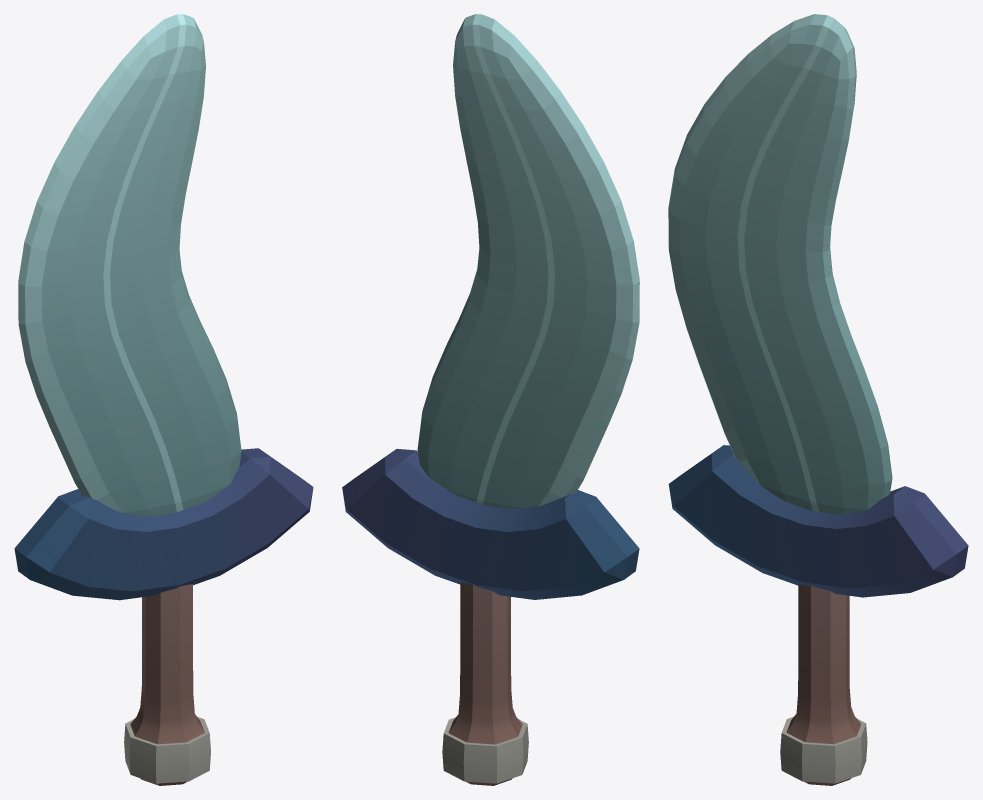
The model's file is DAGGER.fbx.
3 views of the same model, side by side, from view 1: azimuth 30°, elevation 25°; view 2: azimuth 150°, elevation 25°; view 3: azimuth 330°, elevation 25° (orthographic).
Parts seen in each view (by area): view 1: Cube.006; view 2: Cube.006; view 3: Cube.006.
Boxes of the visible parts, x1,y1,x2,y2 form: Cube.006: (14, 14, 313, 785); Cube.006: (342, 14, 639, 785); Cube.006: (668, 14, 968, 785).
Bounding box in the file's own units: 46.23 × 115 × 12.1.
